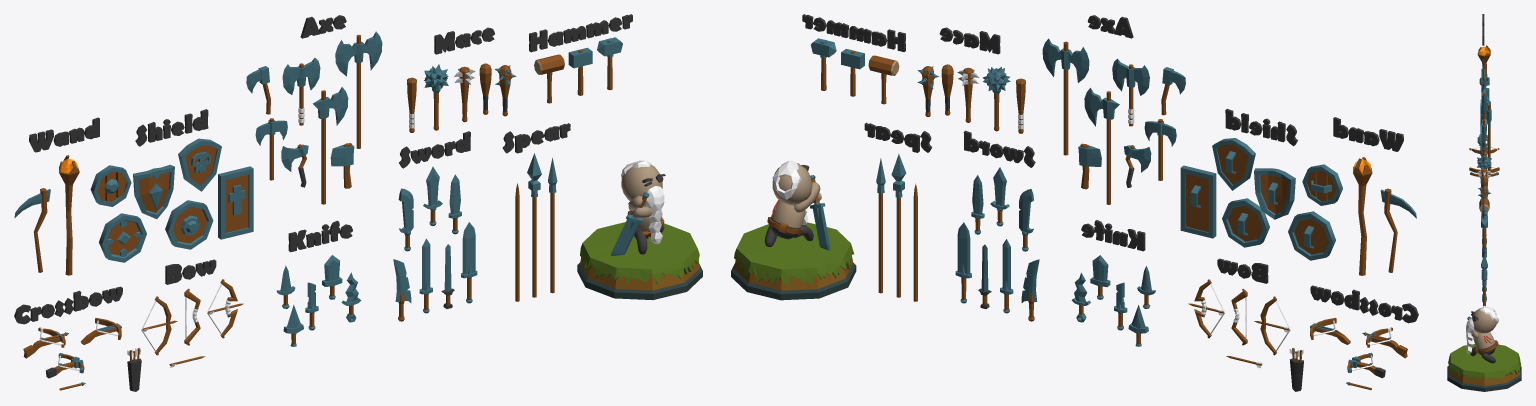
Rendered from weapon_fantasy.glb.
3 renders of one model, left to right at view 1: azimuth 30°, elevation 25°; view 2: azimuth 150°, elevation 25°; view 3: azimuth 270°, elevation 25°, orthographic. The views are drawn at different scales.
Visible parts, largest first — view 1: Ground02, Char01, Ground01, Shield03, Shield01, Shield02, Plane024_metal_0, TextPlus007, TextPlus004, TextPlus002, Weapon41, Object094_metal_0 (+20 smaller); view 2: Ground02, Char01, Ground01, Shield01, Shield03, Shield02, TextPlus004, TextPlus007, Plane024_metal_0, TextPlus002, Weapon41, Plane024_brown_0 (+20 smaller); view 3: Ground02, Char01, Ground01, Weapon_Wand01, Weapon46_brown_0, TextPlus004, Object092_metal_0, Weapon41, Weapon_Crossbow, Weapon047, Weapon051_metal_0, Weapon46_metal_0 (+9 smaller).
Part boxes in pixels (bbox=[...]): Ground02: bbox=[580, 222, 699, 284]; Char01: bbox=[621, 160, 665, 254]; Ground01: bbox=[577, 258, 702, 299]; Shield03: bbox=[165, 200, 213, 249]; Shield01: bbox=[99, 213, 146, 262]; Shield02: bbox=[133, 164, 174, 218]; Plane024_metal_0: bbox=[218, 166, 253, 239]; TextPlus007: bbox=[14, 286, 122, 324]; TextPlus004: bbox=[529, 14, 632, 52]; TextPlus002: bbox=[135, 109, 208, 146]; Weapon41: bbox=[313, 87, 348, 204]; Object094_metal_0: bbox=[178, 138, 221, 191]; Ground02: bbox=[734, 222, 853, 286]; Char01: bbox=[764, 160, 821, 246]; Ground01: bbox=[731, 257, 856, 300]; Shield01: bbox=[1288, 211, 1335, 260]; Shield03: bbox=[1222, 198, 1269, 247]; Shield02: bbox=[1254, 168, 1295, 219]; TextPlus004: bbox=[802, 14, 905, 51]; TextPlus007: bbox=[1310, 285, 1418, 323]; Plane024_metal_0: bbox=[1180, 165, 1216, 238]; TextPlus002: bbox=[1225, 108, 1297, 146]; Weapon41: bbox=[1084, 88, 1119, 204]; Plane024_brown_0: bbox=[1185, 174, 1208, 232]; Ground02: bbox=[1448, 344, 1520, 380]; Char01: bbox=[1466, 306, 1498, 363]; Ground01: bbox=[1447, 366, 1521, 391]; Weapon_Wand01: bbox=[1477, 45, 1490, 76]; Weapon46_brown_0: bbox=[1488, 104, 1490, 174]; TextPlus004: bbox=[1482, 177, 1484, 217]; Object092_metal_0: bbox=[1479, 69, 1489, 91]; Weapon41: bbox=[1482, 119, 1486, 151]; Weapon_Crossbow: bbox=[1469, 146, 1499, 154]; Weapon047: bbox=[1476, 168, 1492, 177]; Weapon051_metal_0: bbox=[1481, 253, 1487, 276]; Weapon46_metal_0: bbox=[1486, 100, 1491, 131].
Bounding box in the file's own units: 1224 × 580 × 187.
